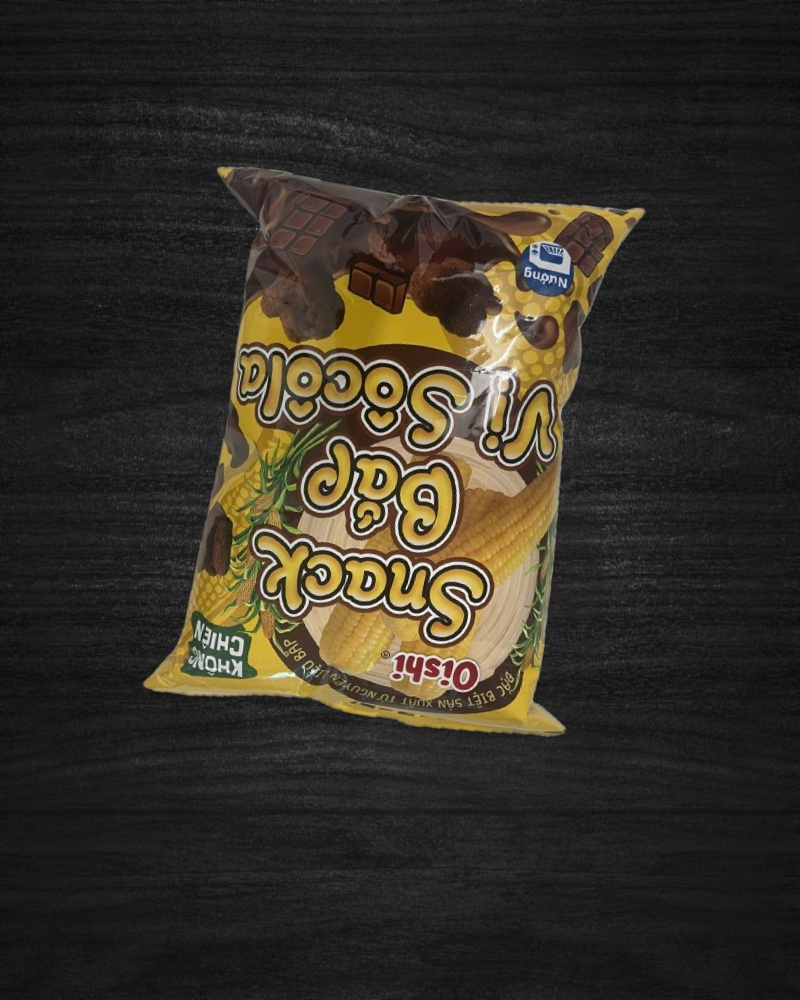Snack socola: (128, 138, 658, 762)
